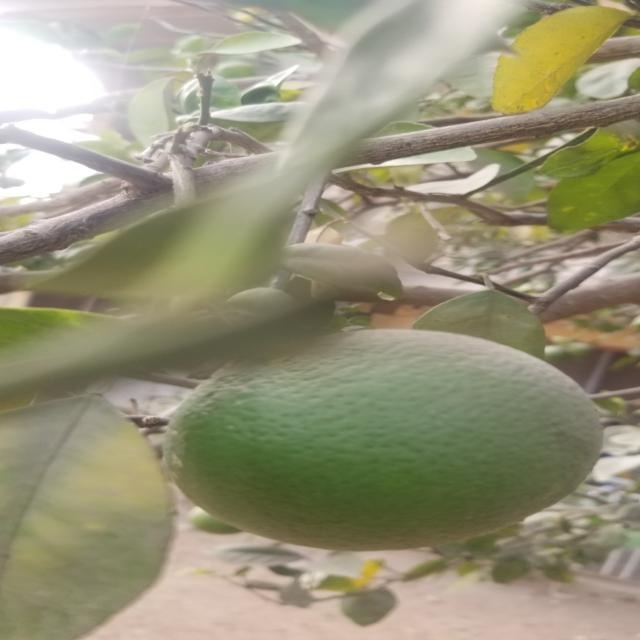agrume: (160, 338, 611, 546)
